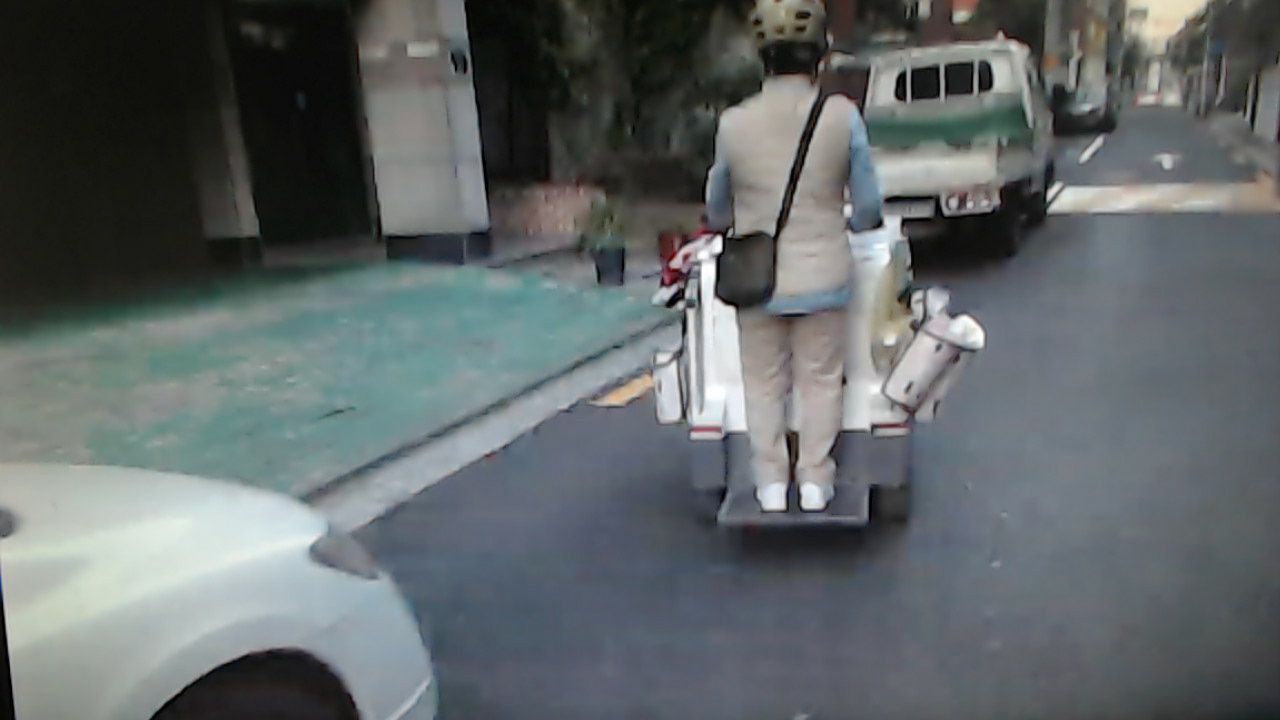Yakurut: (668, 3, 909, 557)
